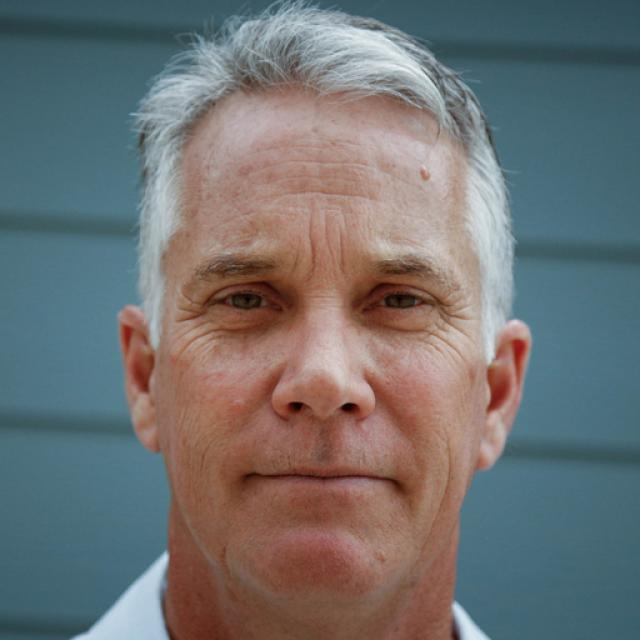Acne: (214, 384, 263, 430), (411, 154, 448, 191), (354, 414, 378, 445), (370, 550, 392, 568)
Wrinkle: (233, 146, 381, 182), (256, 183, 389, 210)
